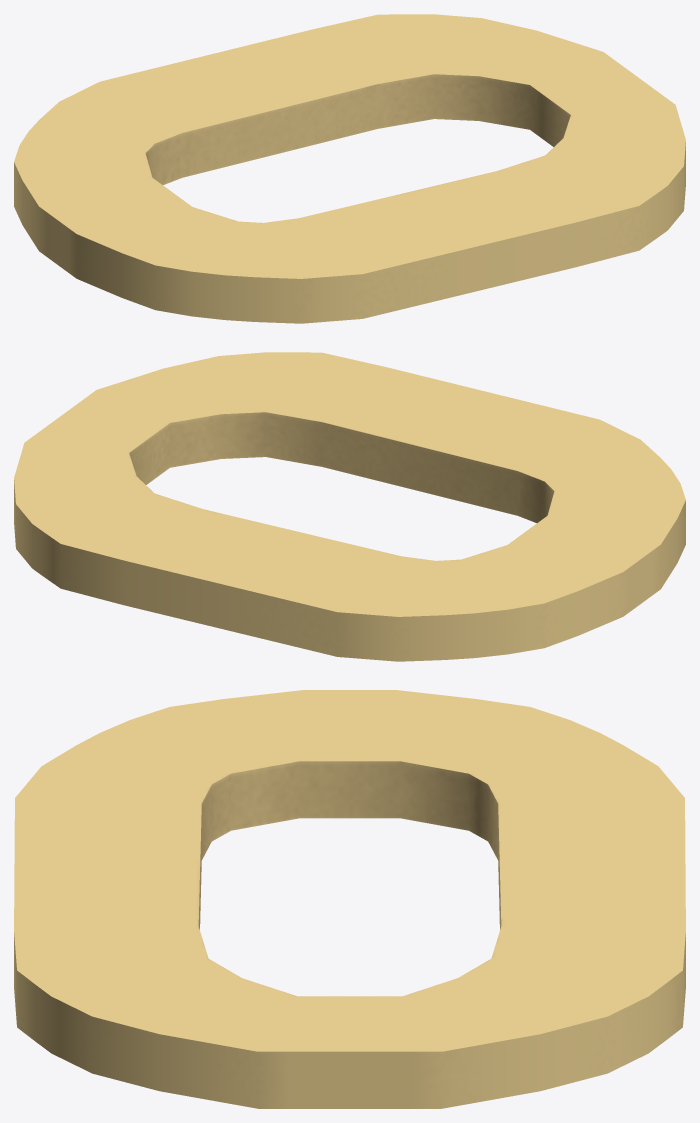
Rendered from 0_Gold.glb.
3 renders of one model, top to bottom at view 1: azimuth 30°, elevation 25°; view 2: azimuth 150°, elevation 25°; view 3: azimuth 270°, elevation 25°, orthographic. The views are drawn at different scales.
Visible parts, largest first — view 1: 0*; view 2: 0*; view 3: 0*.
Part boxes in pixels (left/top/right/bottom): 0*: left=14, top=14, right=685, bottom=323; 0*: left=14, top=352, right=685, bottom=661; 0*: left=14, top=690, right=685, bottom=1108.
Size of the model in its own units: 0.5381 by 0.0396 by 0.4225.
1 material, 1 textured.
